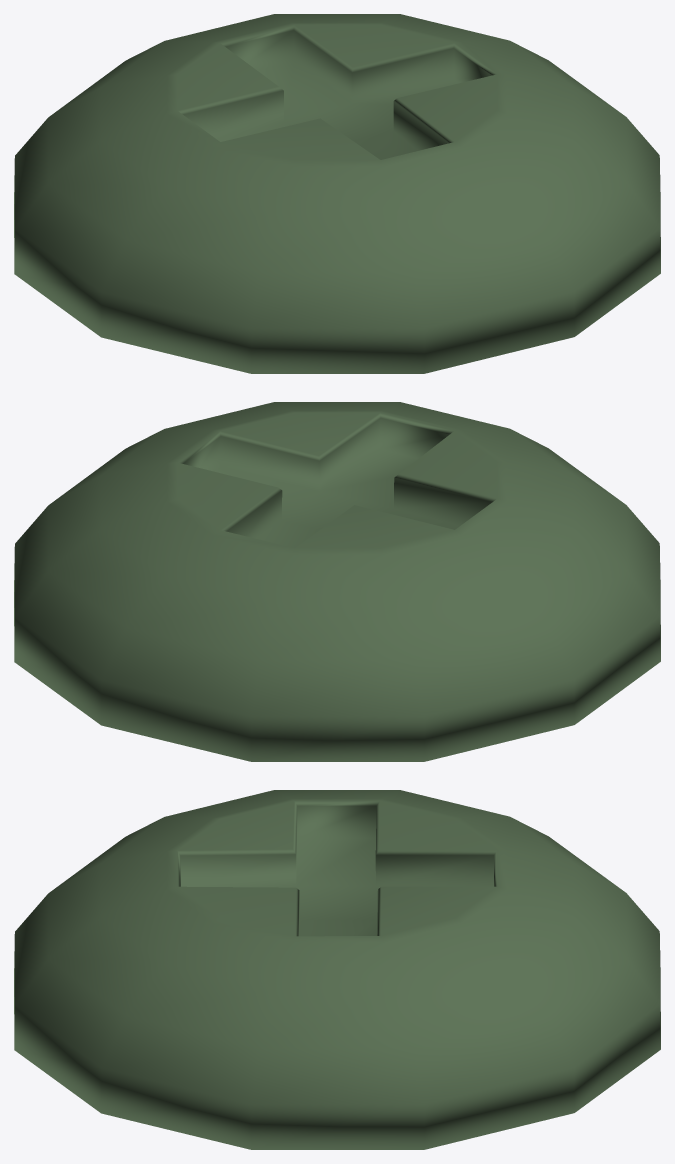
Rendered from Checker_Sp_Screw_03.fbx.
3 views of the same model, one above another, from view 1: azimuth 30°, elevation 25°; view 2: azimuth 150°, elevation 25°; view 3: azimuth 270°, elevation 25° (orthographic).
Visible parts, largest first — view 1: Checker_Sp_Screw_03; view 2: Checker_Sp_Screw_03; view 3: Checker_Sp_Screw_03.
Boxes of the visible parts, box(x1,y1,x2,y2) form: Checker_Sp_Screw_03: box(14, 14, 660, 373); Checker_Sp_Screw_03: box(14, 402, 660, 761); Checker_Sp_Screw_03: box(14, 790, 660, 1149).
Size of the model in its own units: 2.38 by 0.5877 by 2.38.
